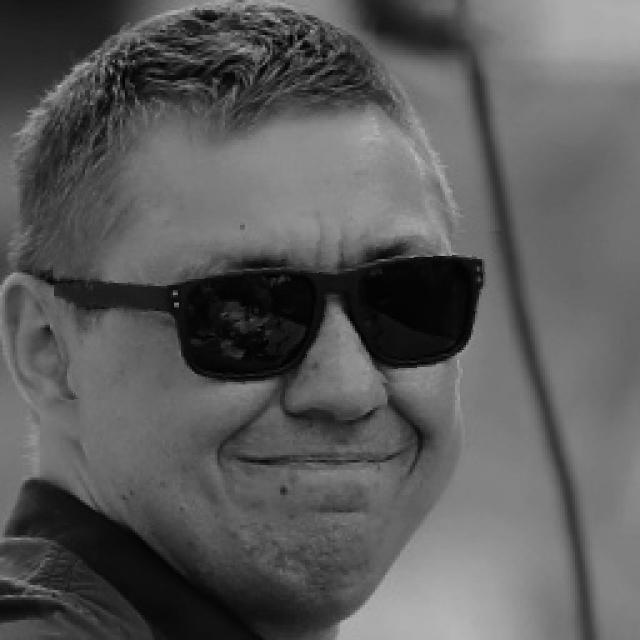glasses: (54, 237, 510, 395)
